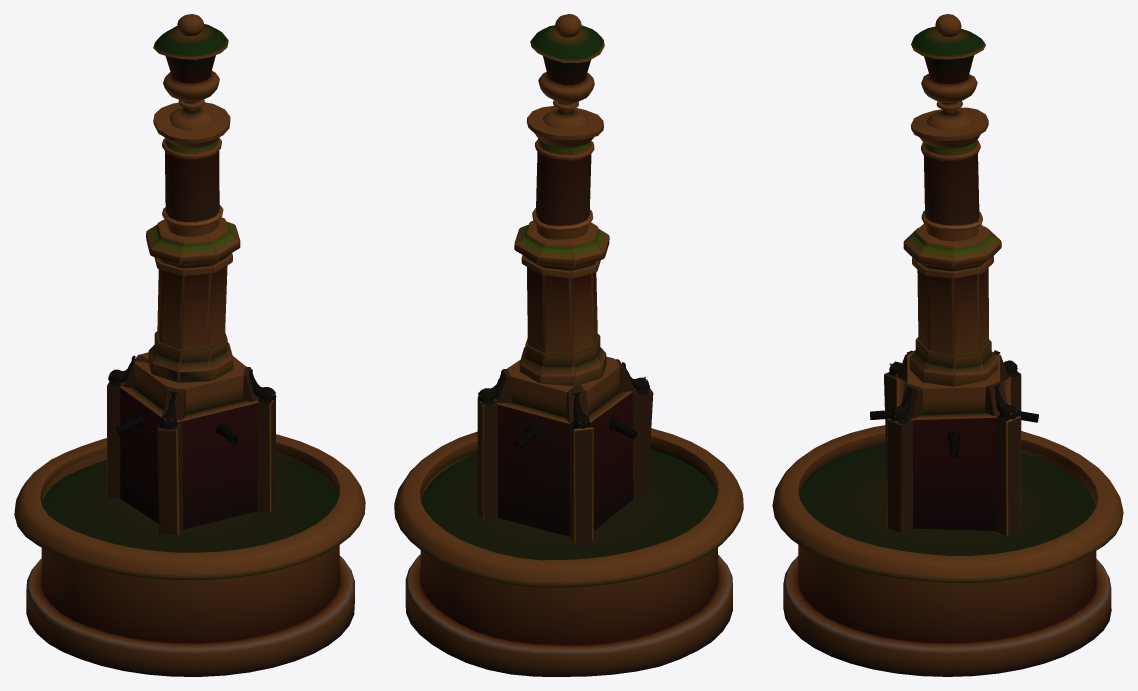
The model's file is ModFontain01.fbx.
3 views of the same model, side by side, from view 1: azimuth 30°, elevation 25°; view 2: azimuth 150°, elevation 25°; view 3: azimuth 270°, elevation 25° (orthographic).
Visible parts, largest first — view 1: ModFontain01; view 2: ModFontain01; view 3: ModFontain01.
Part boxes in pixels (x1=…): ModFontain01: x1=14, y1=14, x2=365, y2=676; ModFontain01: x1=394, y1=14, x2=743, y2=676; ModFontain01: x1=772, y1=14, x2=1123, y2=676.
Size of the model in its own units: 2.39 by 4.45 by 2.38.
